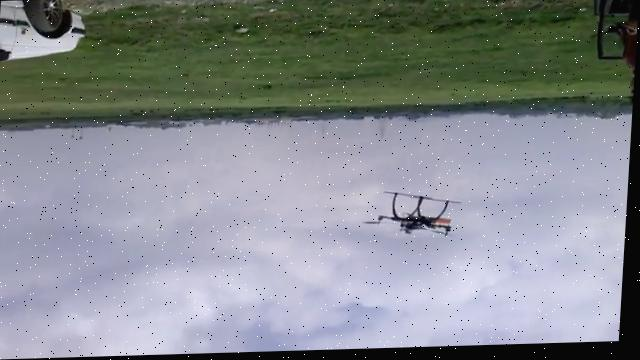drone: (362, 191, 469, 243)
